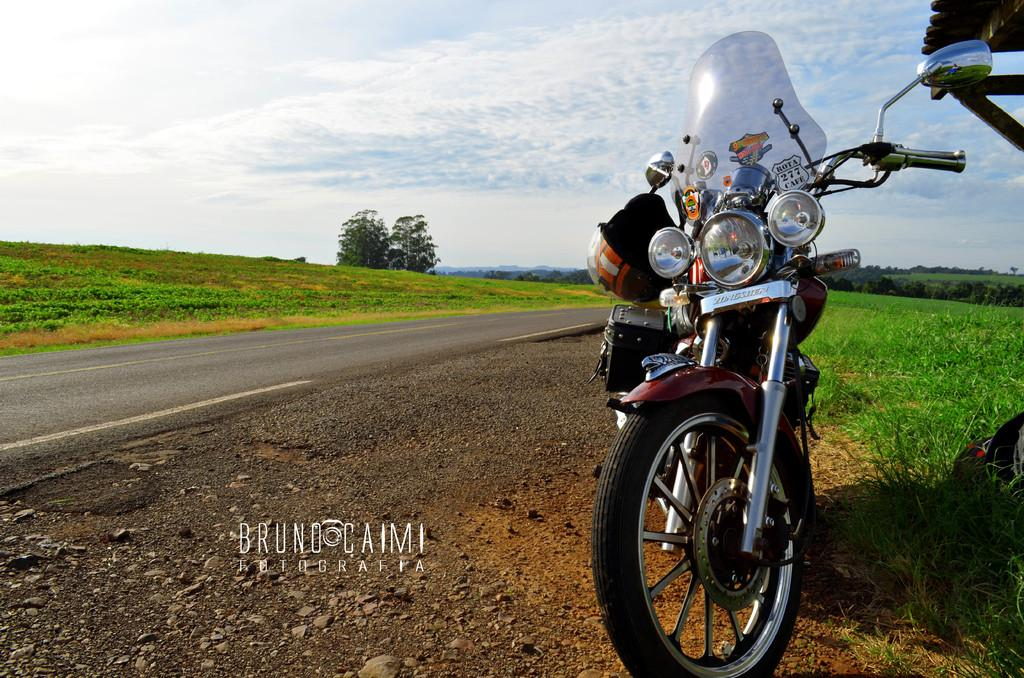helmet: (586, 193, 698, 303)
